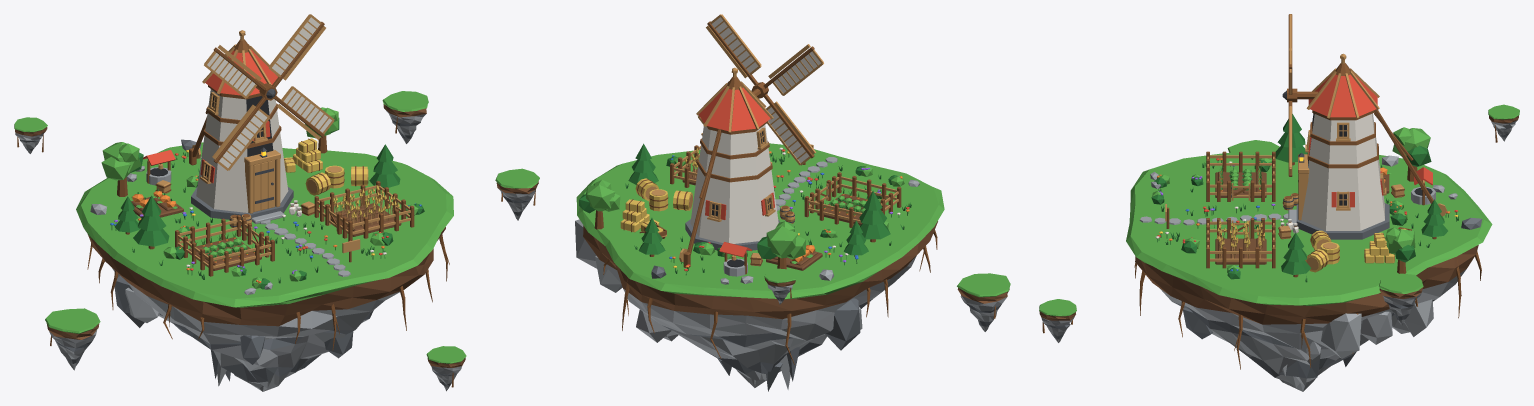
Rendered from windmill-farm-island.glb.
3 views of the same model, side by side, from view 1: azimuth 30°, elevation 25°; view 2: azimuth 150°, elevation 25°; view 3: azimuth 270°, elevation 25° (orthographic). The views are drawn at different scales.
Parts seen in each view (by area): view 1: Island_Ground, Windmill, Sails, Fences, Trees, Island_Crags, Plants, Crops, FloatingRock_1, HayBales, Fields, Props (+7 smaller); view 2: Island_Ground, Windmill, Trees, Sails, Island_Crags, Fences, FloatingRock_1, HayBales, Plants, FloatingRock_2, Props, Island_Roots (+5 smaller); view 3: Island_Ground, Windmill, Trees, Island_Crags, Fences, Plants, HayBales, Fields, FloatingRock_2, Props, Crops, FloatingRock_3 (+6 smaller).
Boxes of the visible parts, left/top/right/bottom form: Island_Ground: left=76, top=142, right=453, bottom=391; Windmill: left=189, top=30, right=293, bottom=223; Sails: left=204, top=14, right=334, bottom=170; Fences: left=175, top=181, right=414, bottom=276; Trees: left=101, top=107, right=400, bottom=249; Island_Crags: left=114, top=276, right=353, bottom=386; Plants: left=110, top=150, right=424, bottom=289; Crops: left=131, top=185, right=399, bottom=262; FloatingRock_1: left=45, top=308, right=100, bottom=370; HayBales: left=284, top=138, right=368, bottom=195; Fields: left=131, top=197, right=401, bottom=270; Props: left=143, top=150, right=360, bottom=262; Island_Ground: left=576, top=143, right=944, bottom=387; Windmill: left=679, top=67, right=779, bottom=268; Trees: left=579, top=143, right=890, bottom=269; Sails: left=698, top=14, right=823, bottom=165; Island_Crags: left=575, top=219, right=862, bottom=391; Fences: left=670, top=145, right=901, bottom=227; FloatingRock_1: left=957, top=273, right=1010, bottom=331; HayBales: left=620, top=178, right=693, bottom=232; Plants: left=625, top=147, right=911, bottom=275; FloatingRock_2: left=495, top=168, right=539, bottom=220; Props: left=639, top=144, right=813, bottom=276; Island_Roots: left=603, top=230, right=937, bottom=364; Island_Ground: left=1126, top=150, right=1492, bottom=391; Windmill: left=1288, top=53, right=1446, bottom=239; Trees: left=1275, top=114, right=1447, bottom=277; Island_Crags: left=1183, top=299, right=1433, bottom=376; Fences: left=1206, top=151, right=1275, bottom=268; Plants: left=1151, top=154, right=1458, bottom=282; HayBales: left=1305, top=230, right=1394, bottom=272; Fields: left=1215, top=171, right=1389, bottom=264; FloatingRock_2: left=1379, top=273, right=1423, bottom=324; Props: left=1165, top=167, right=1435, bottom=239; Crops: left=1217, top=164, right=1391, bottom=258; FloatingRock_3: left=1039, top=299, right=1076, bottom=342.
Size of the model in its own units: 69.93 by 54.81 by 65.82.
